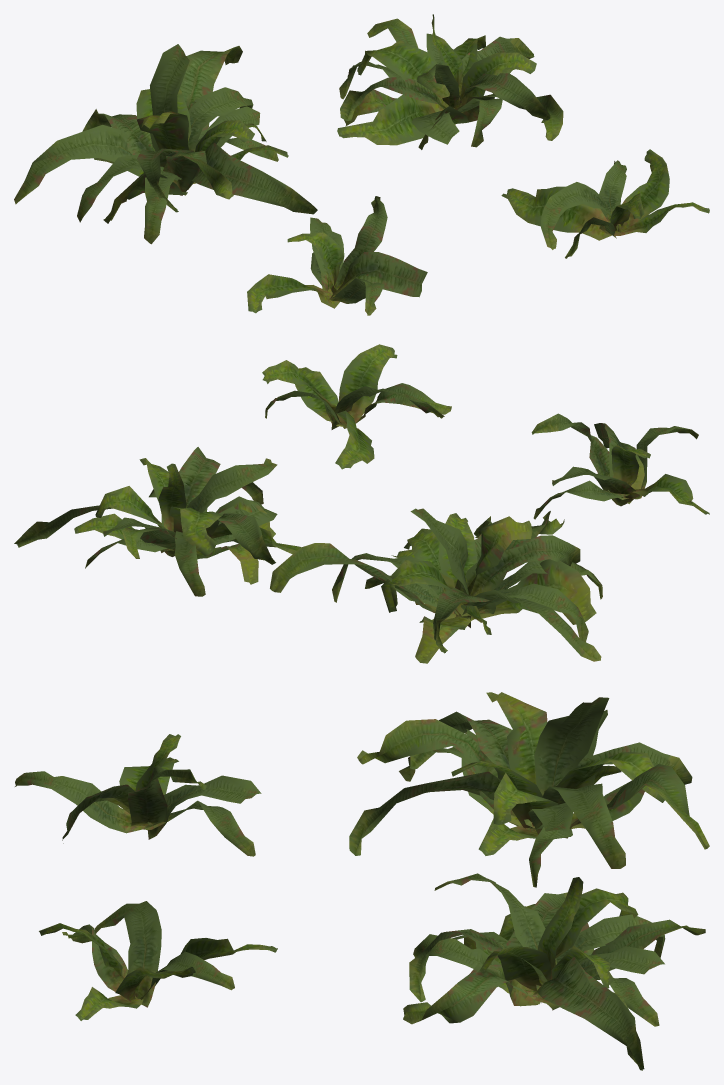
Rendered from fern.glb.
3 views of the same model, one above another, from view 1: azimuth 30°, elevation 25°; view 2: azimuth 150°, elevation 25°; view 3: azimuth 270°, elevation 25° (orthographic). The views are drawn at different scales.
Parts seen in each view (by area): view 1: fern_02_b, fern_02_c, fern_02_d, fern_02_a; view 2: fern_02_b, fern_02_c, fern_02_d, fern_02_a; view 3: fern_02_b, fern_02_c, fern_02_a, fern_02_d.
Boxes of the visible parts, x1,y1,x2,y2 form: fern_02_b: (14,44,317,244); fern_02_c: (337,14,563,149); fern_02_d: (501,149,709,258); fern_02_a: (247,196,427,315); fern_02_b: (270,508,602,663); fern_02_c: (14,447,300,596); fern_02_d: (262,344,451,469); fern_02_a: (531,413,709,519); fern_02_b: (349,692,709,887); fern_02_c: (403,873,705,1070); fern_02_a: (15,734,261,856); fern_02_d: (39,901,277,1020).
Size of the model in its own units: 1.97 by 0.4277 by 1.72.
Materials: 1 (1 with a texture image).
